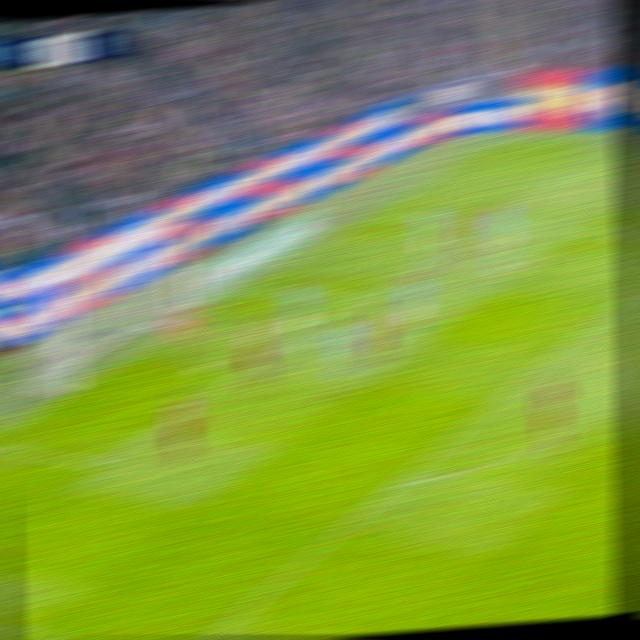bigarea_top_outter: (357, 206, 384, 221)
bottom_arc_area_intersection: (379, 471, 413, 495)
corner: (485, 133, 512, 141)
smallarea_bottom_inner: (81, 450, 117, 479)
smallarea_top_inner: (339, 290, 367, 307)
smallarea_top_outter: (235, 279, 262, 292)
top_arc_area_intersection: (560, 330, 589, 346)
